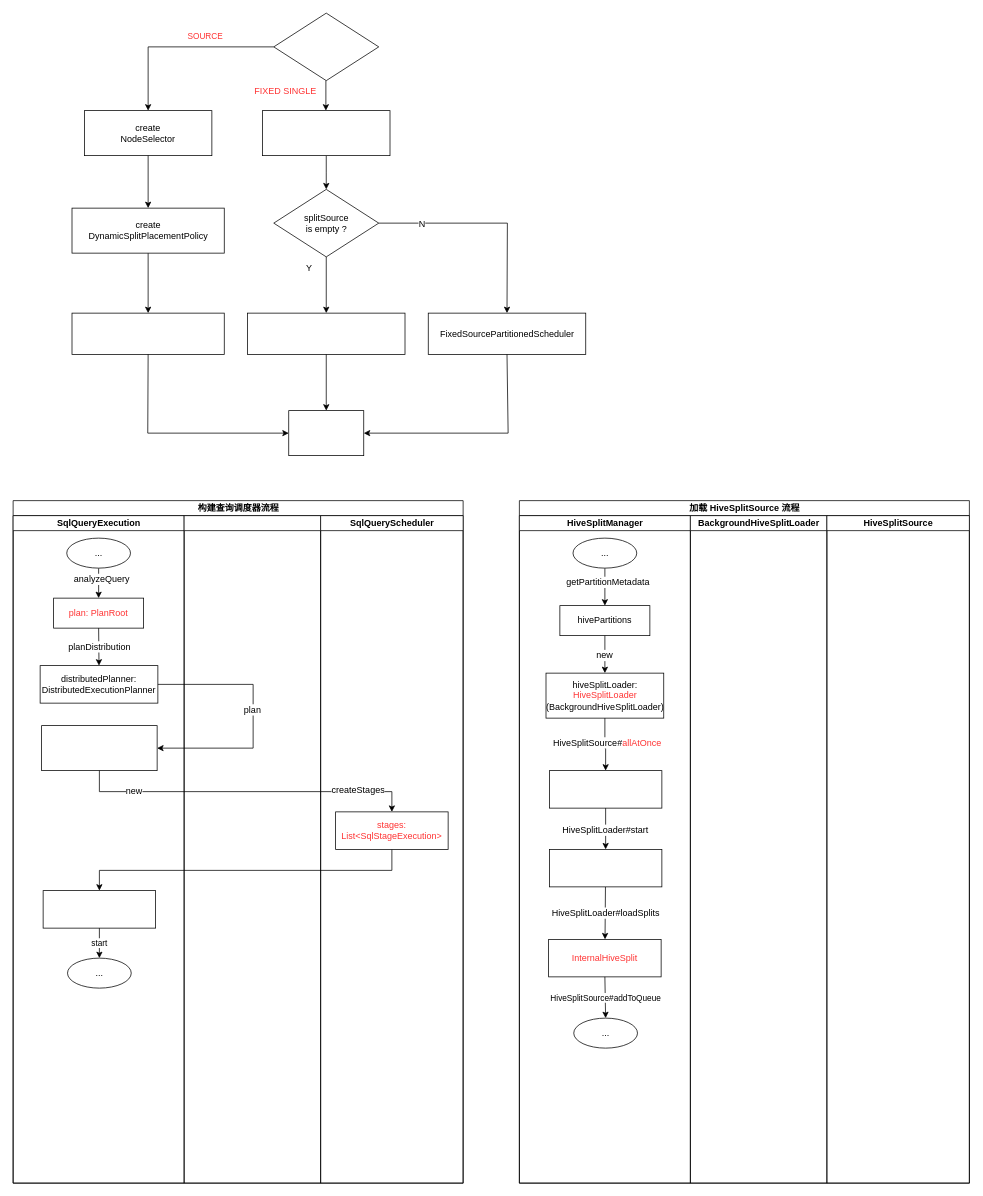
This 983x1196 diagram has some shape labels left out. The shapes that lost their labels are listed below. From the top down, each one's centre as x and y in pixels, then its label:
At point 326,46: "partitioningHandle".
At point 326,133: "create NodePartitionMap".
At point 147,333: "SourcePartitionedScheduler".
At point 326,333: "FixedCountScheduler".
At point 326,433: "scheduler#start".
At point 99,748: "outputStageExecutionPlan: StageExecutionPlan".
At point 605,789: "splitSource: HiveSplitSource".
At point 252,849: "DistributedExecutionPlanner".
At point 605,868: "HiveSplitLoaderTask".
At point 99,909: "scheduler: SqlQueryScheduler".
